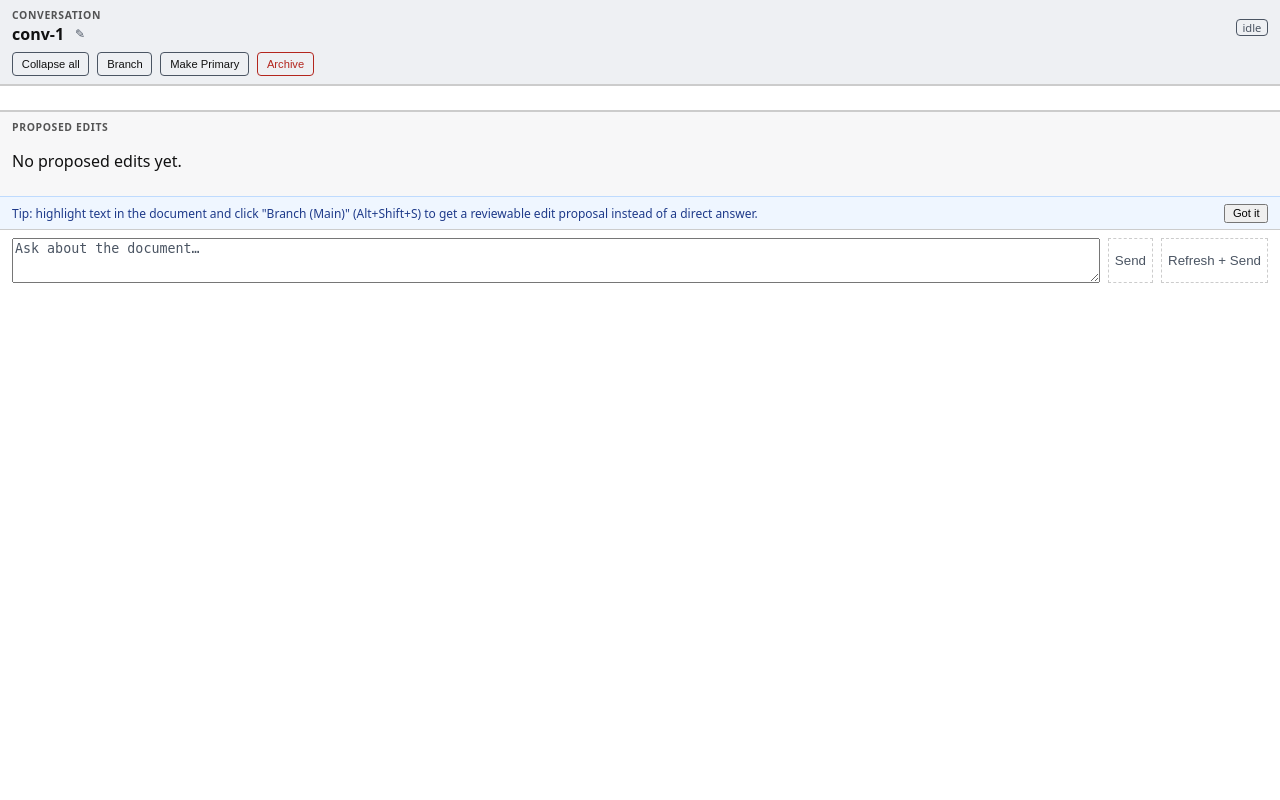
Scenario: z-index scale — ConversationView.vue .close-dialog-overlay uses --z-overlay-primary › outranks --z-overlay/--z-overlay-detail once the Archive/close confirmation is open
This screenshot has width=1280, height=800.
Click the button "Archive" at (286,64), box x1=257 y1=52 x2=314 y2=76
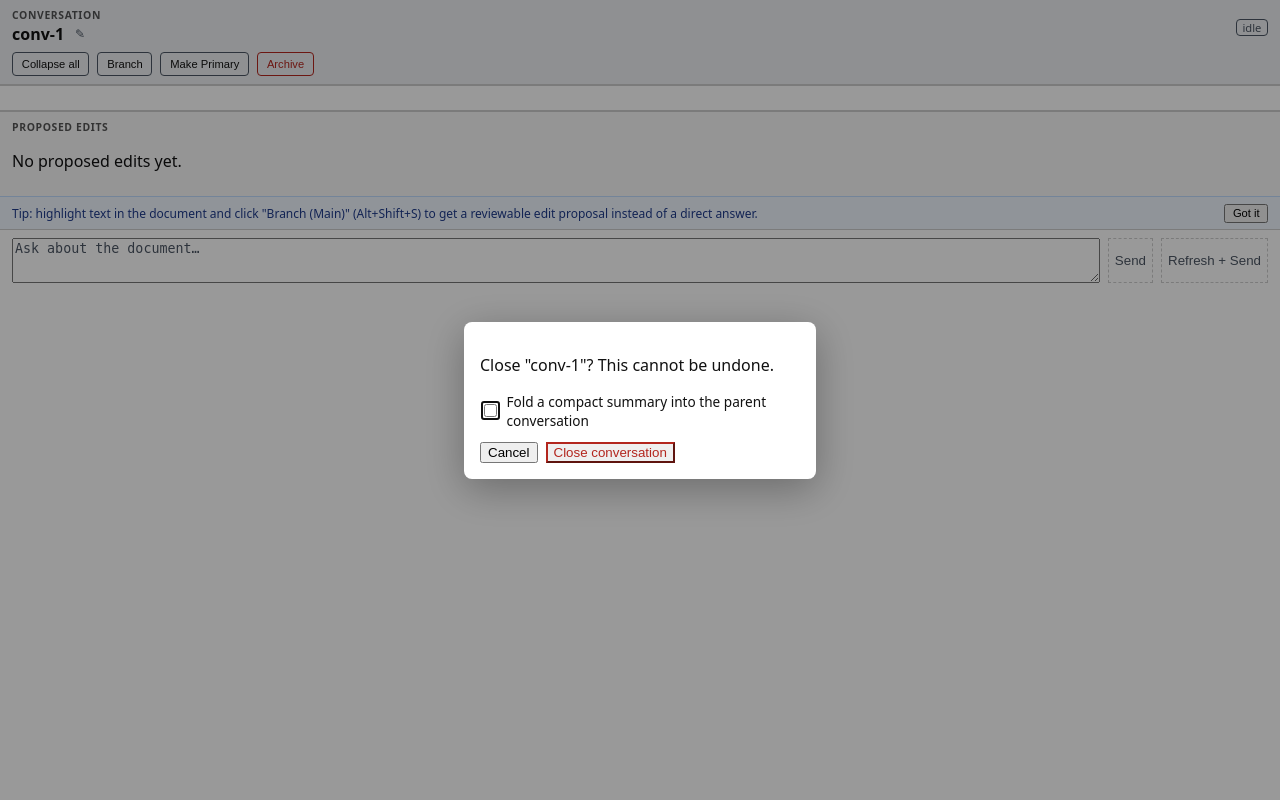
expect the element with class "close-dialog-overlay" is shown: met
